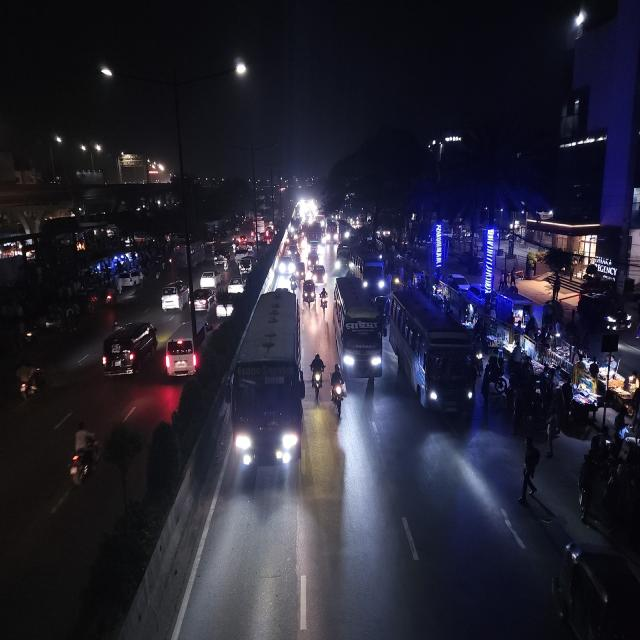bus: (232, 286, 304, 488), (388, 286, 480, 423), (332, 274, 386, 384), (350, 242, 386, 295), (305, 224, 323, 259)
car: (99, 318, 159, 380), (163, 317, 213, 380), (160, 279, 188, 313), (191, 286, 215, 313), (215, 291, 235, 320), (200, 266, 220, 289), (227, 274, 247, 297), (277, 254, 295, 276), (312, 262, 326, 285), (286, 239, 299, 258)
cng: (302, 278, 316, 309), (297, 260, 306, 281)
motorcycle: (64, 419, 100, 492), (482, 351, 510, 408), (12, 360, 47, 404), (328, 361, 346, 415), (310, 351, 326, 398), (318, 283, 329, 316), (103, 288, 119, 308)
pedestrian: (516, 436, 542, 506), (576, 453, 600, 522)
